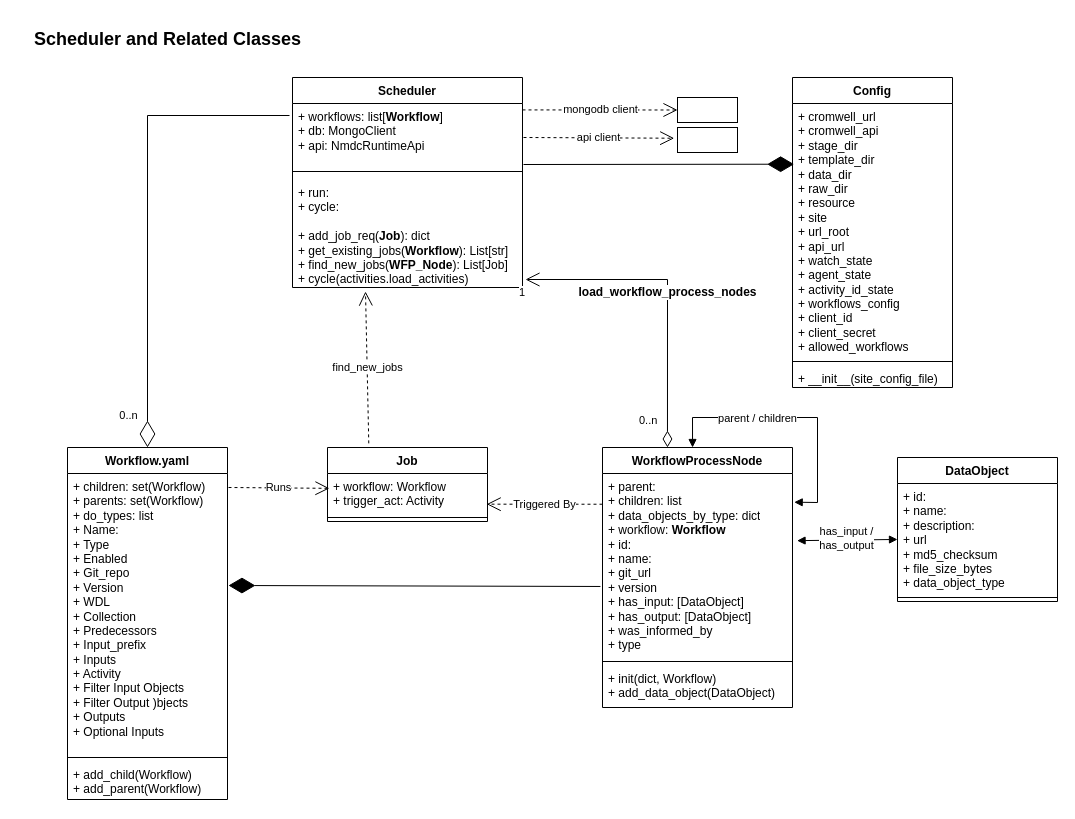
The diagram is 1075 pixels wide and 819 high, and some of its shapes have lost their labels. The shapes that lost their labels are listed below. From the top down, each one's centre as x and y in pixels, then its label:
At [707,109]: "NMDC DB".
At [707,139]: "Minter".
